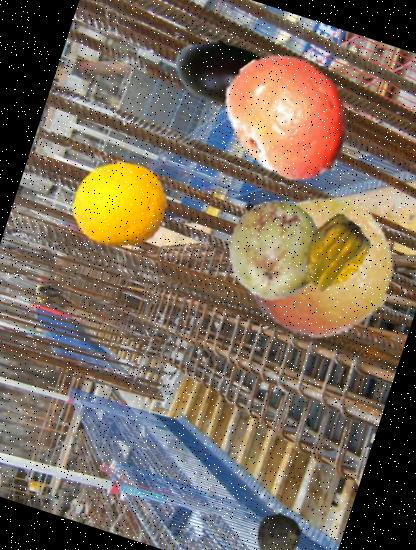Beetroot: (248, 499, 319, 550)
Cantaloupe: (60, 144, 178, 262)
Clementine: (202, 30, 378, 206)
Eggplant: (157, 7, 287, 137)
Mandarine: (225, 172, 413, 359)
Pear: (211, 186, 340, 316)
Physalis: (282, 206, 382, 306)
